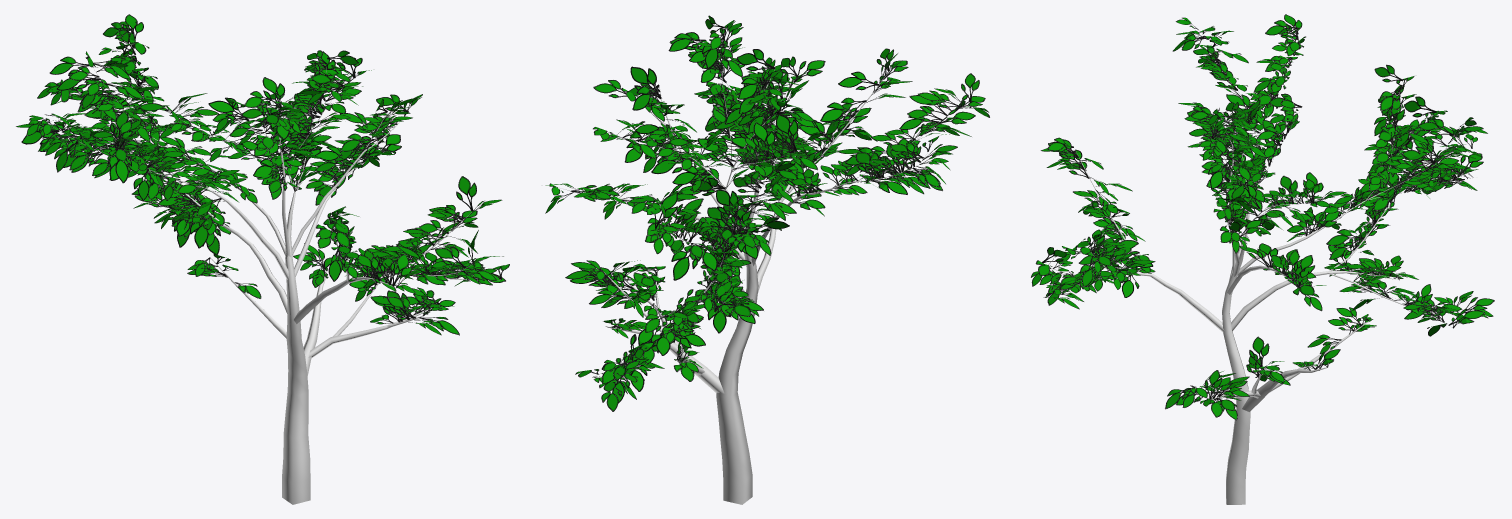
File: Tree04.fbx
3 renders of one model, left to right at view 1: azimuth 30°, elevation 25°; view 2: azimuth 150°, elevation 25°; view 3: azimuth 270°, elevation 25°, orthographic. The views are drawn at different scales.
Parts seen in each view (by area): view 1: Tree.001; view 2: Tree.001; view 3: Tree.001.
Part boxes in pixels (x1=…): Tree.001: x1=53, y1=31, x2=500, y2=504; Tree.001: x1=558, y1=32, x2=968, y2=504; Tree.001: x1=1044, y1=34, x2=1472, y2=504.
Bounding box in the file's own units: 2645 × 2887 × 3017.
